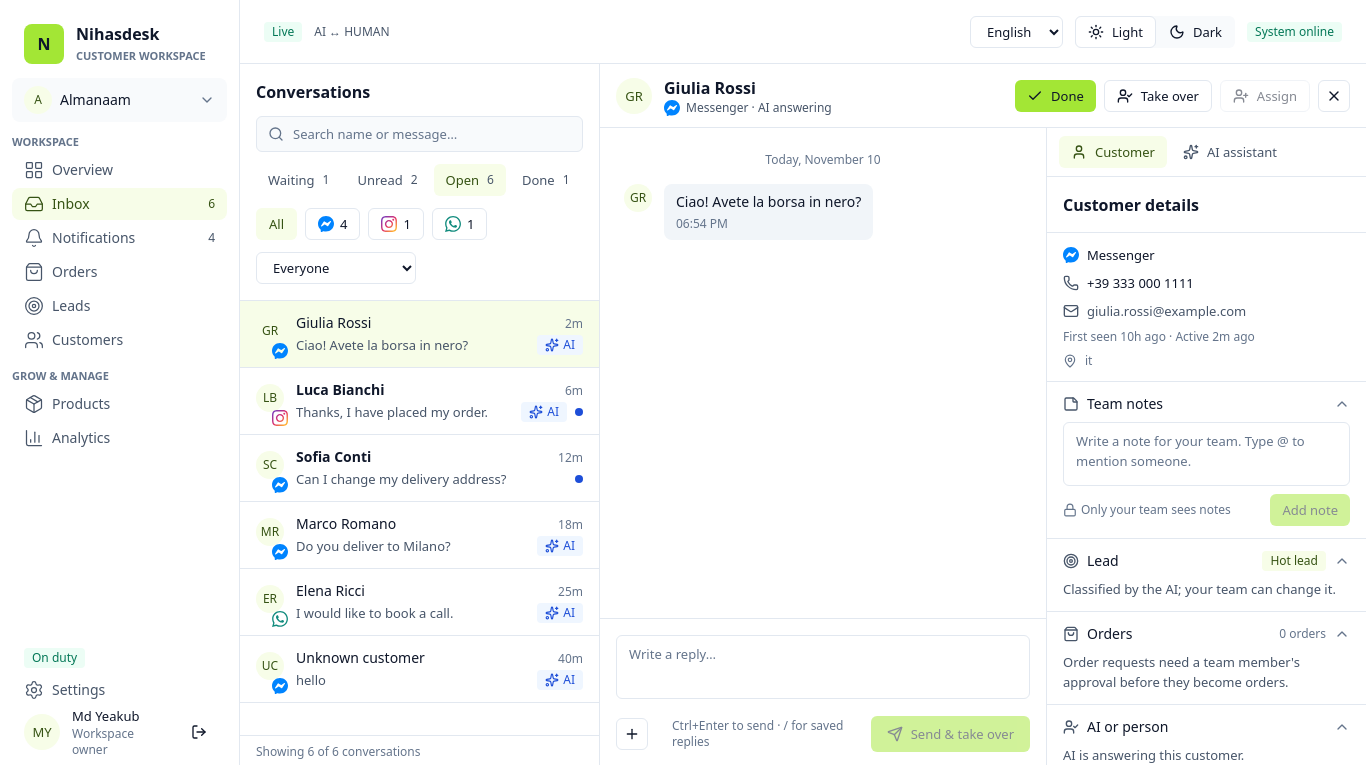
Test: Team notes › adds a note with an @mention in the Notes section only, not in the chat
Type "Please call her @Lu" into the text box named "Add a team note" at [1206, 454], box [1063,422,1350,486]
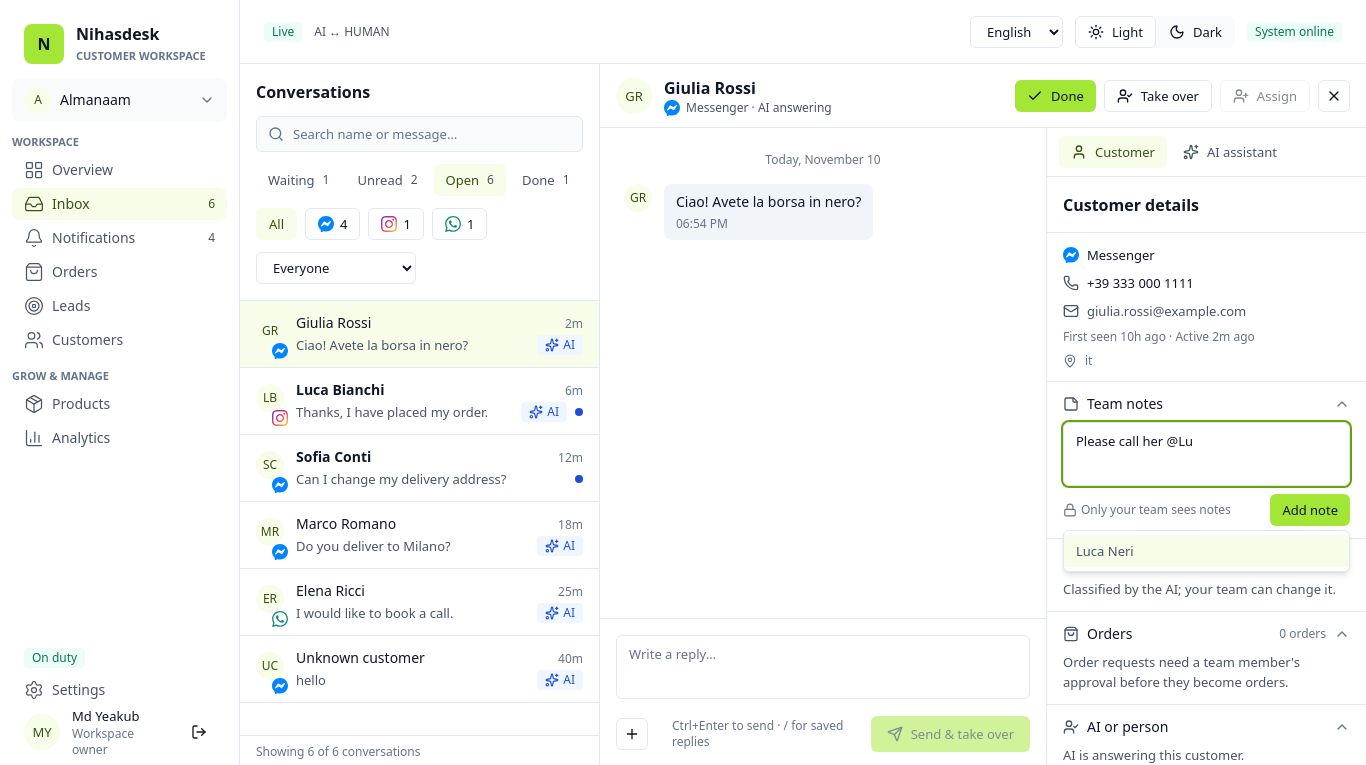
Press Enter
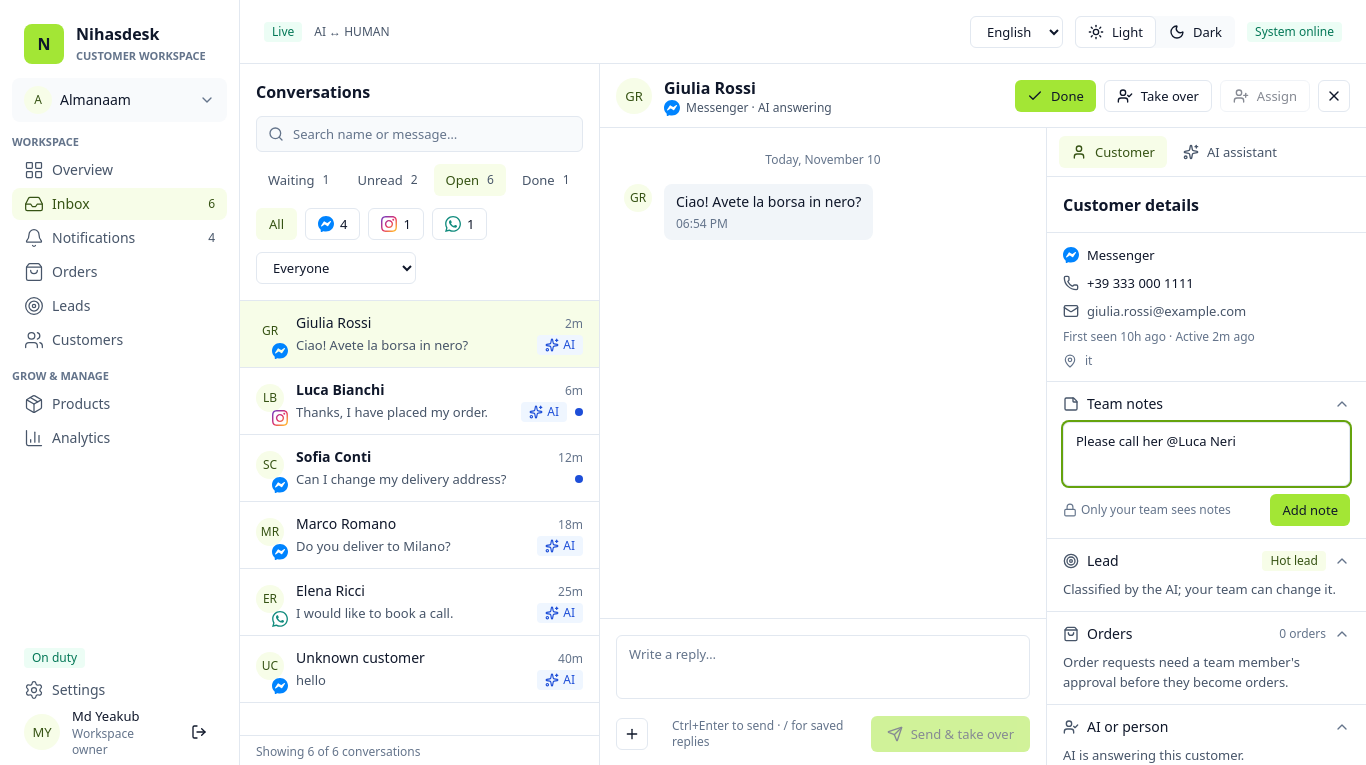
Check: the text box named "Add a team note" holds "Please call her @Luca Neri "
Type "after 6 pm" into the text box named "Add a team note" at [1206, 454], box [1063,422,1350,486]
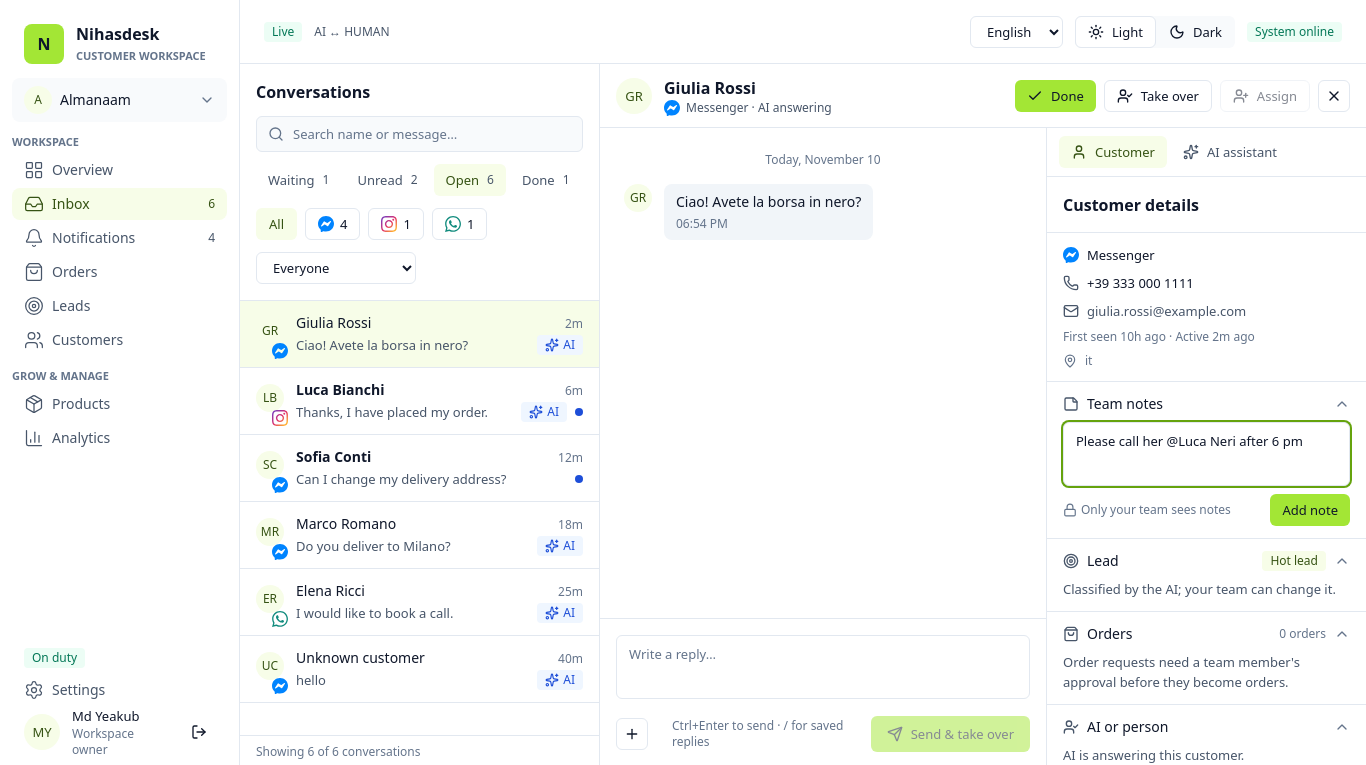
Click the button "Add note" at [1310, 510], box [1270,494,1350,526]
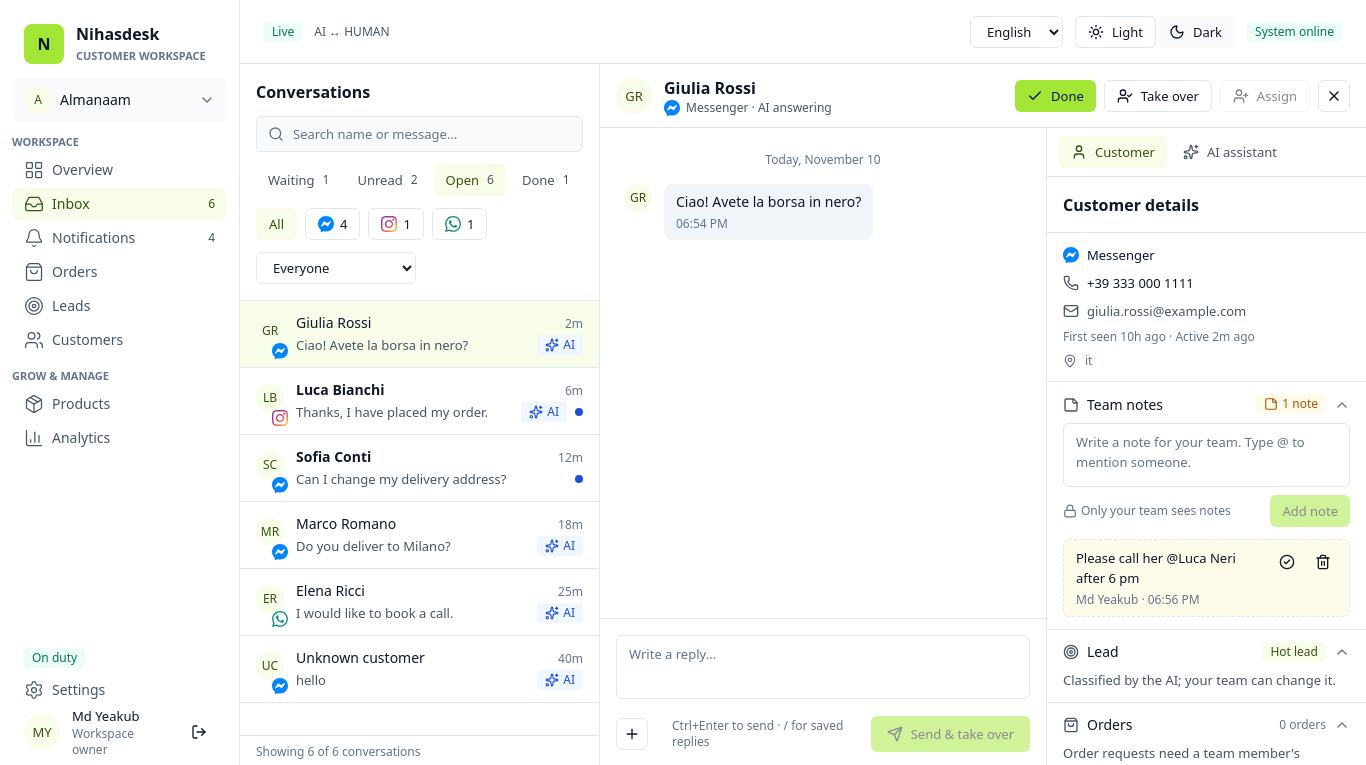
Check: the text "1 note" is shown, box [1256,394,1326,414]
